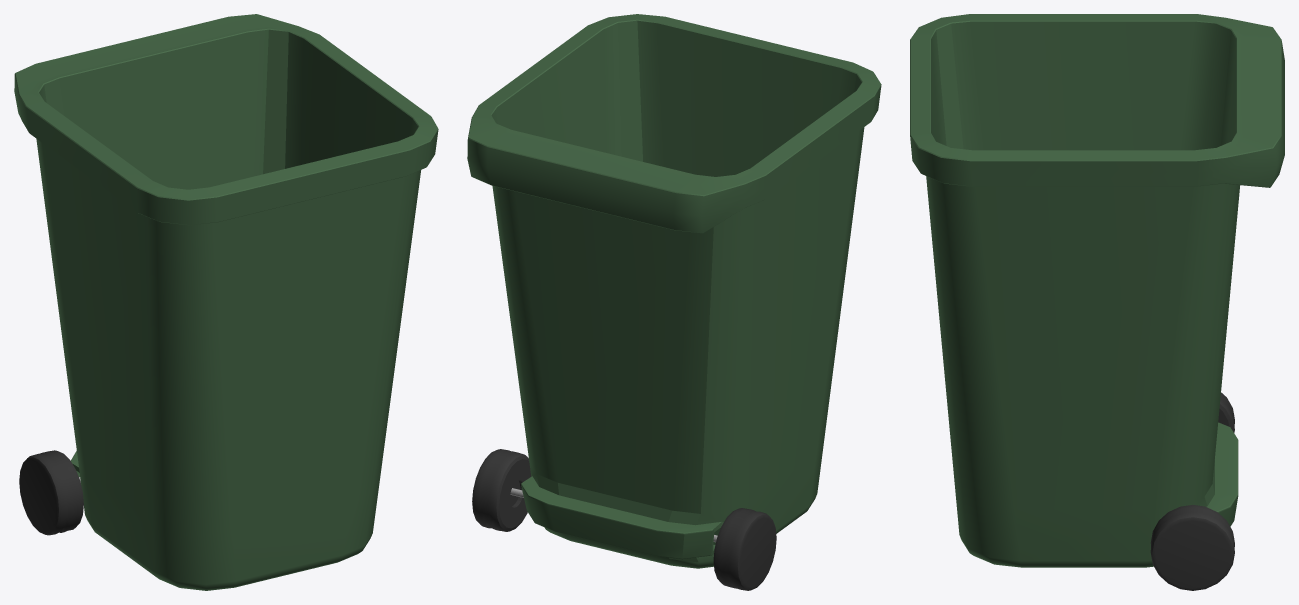
The model's file is DUSTBIN.fbx.
3 renders of one model, left to right at view 1: azimuth 30°, elevation 25°; view 2: azimuth 150°, elevation 25°; view 3: azimuth 270°, elevation 25°, orthographic. The views are drawn at different scales.
Visible parts, largest first — view 1: pCube1, pCylinder1; view 2: pCube1, pCylinder1, pCylinder3; view 3: pCube1, pCylinder3.
Boxes of the visible parts, x1,y1,x2,y2 form: pCube1: (14, 14, 438, 590); pCylinder1: (19, 450, 83, 535); pCube1: (467, 14, 881, 568); pCylinder1: (713, 508, 776, 590); pCylinder3: (472, 449, 531, 531); pCube1: (910, 14, 1284, 567); pCylinder3: (1150, 505, 1234, 590).
Bounding box in the file's own units: 3.75 × 5.24 × 4.06.
